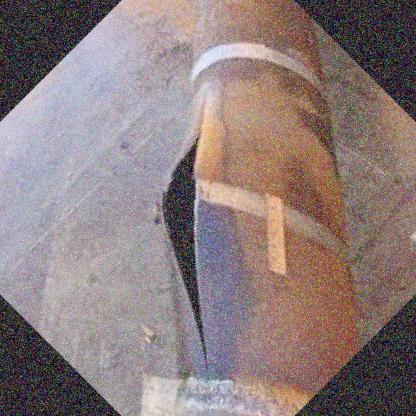burst: (146, 94, 217, 363)
